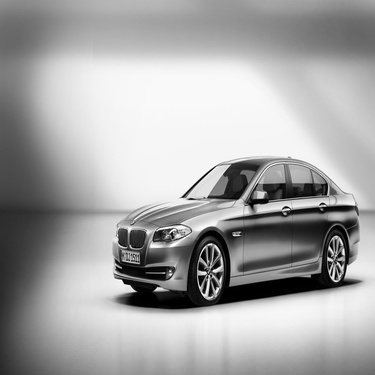car: (109, 150, 364, 311)
